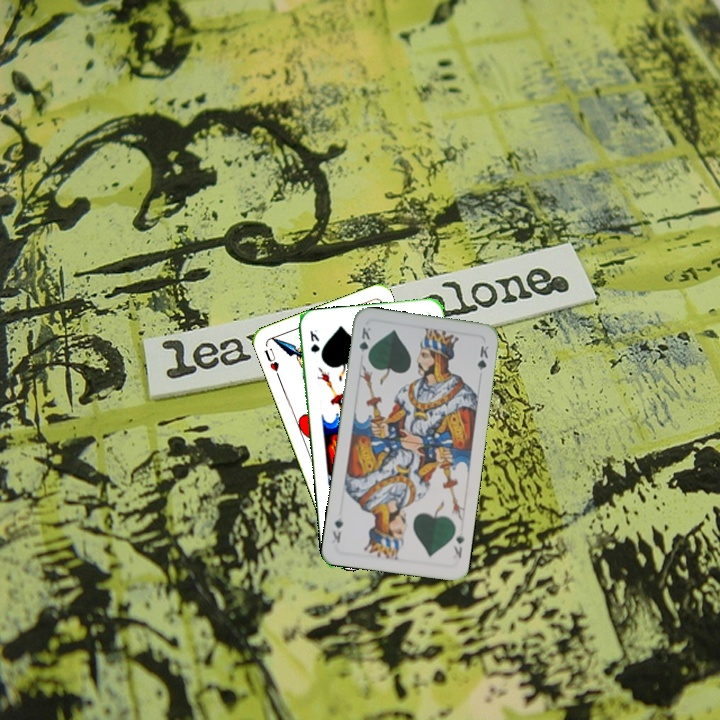GK: (355, 323, 373, 363), (306, 325, 322, 357), (450, 531, 467, 560)
HU: (260, 344, 282, 380)
